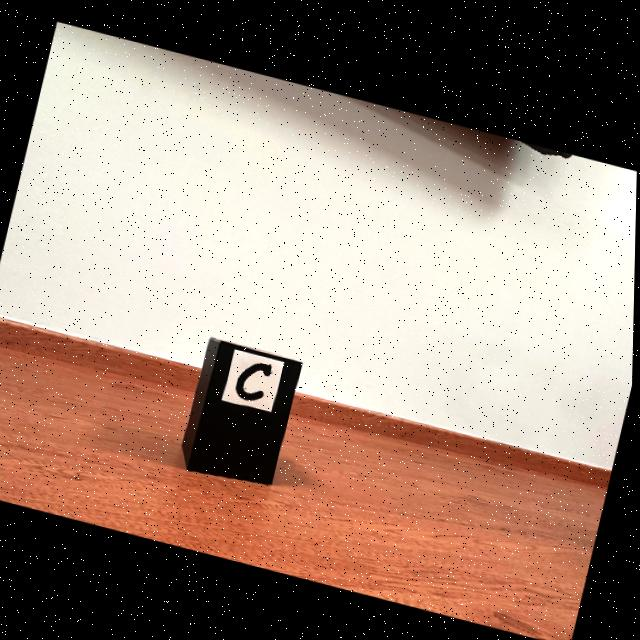C: (237, 361, 273, 399)
